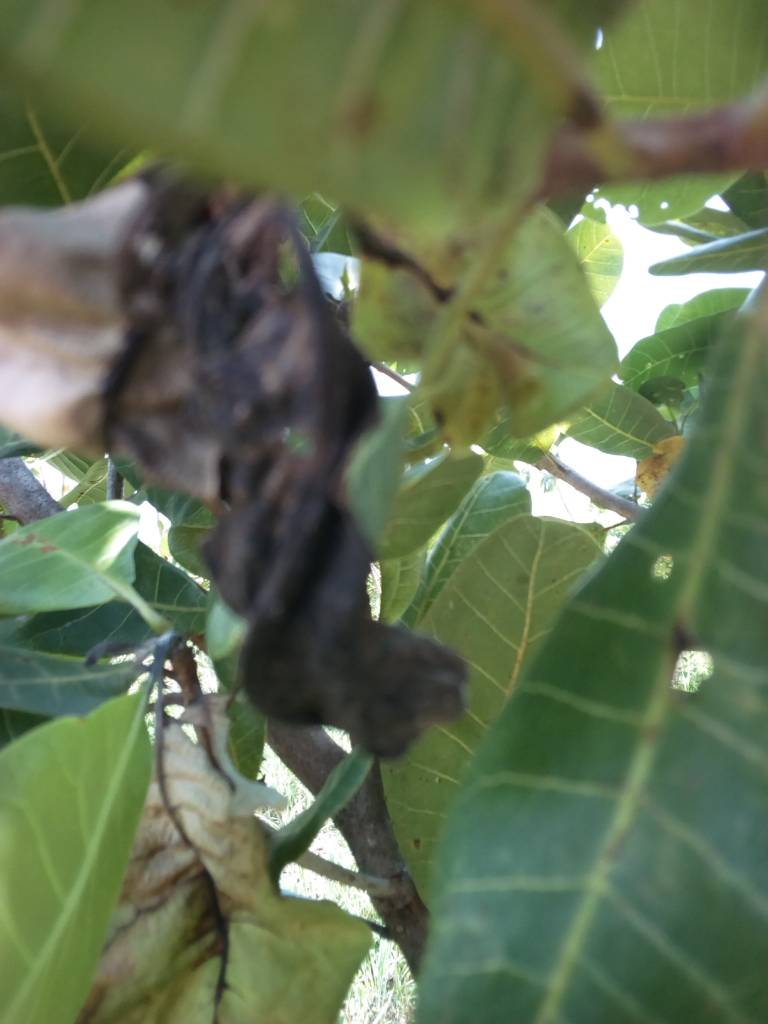Dessèchement des bourgeons: (97, 172, 458, 736)
